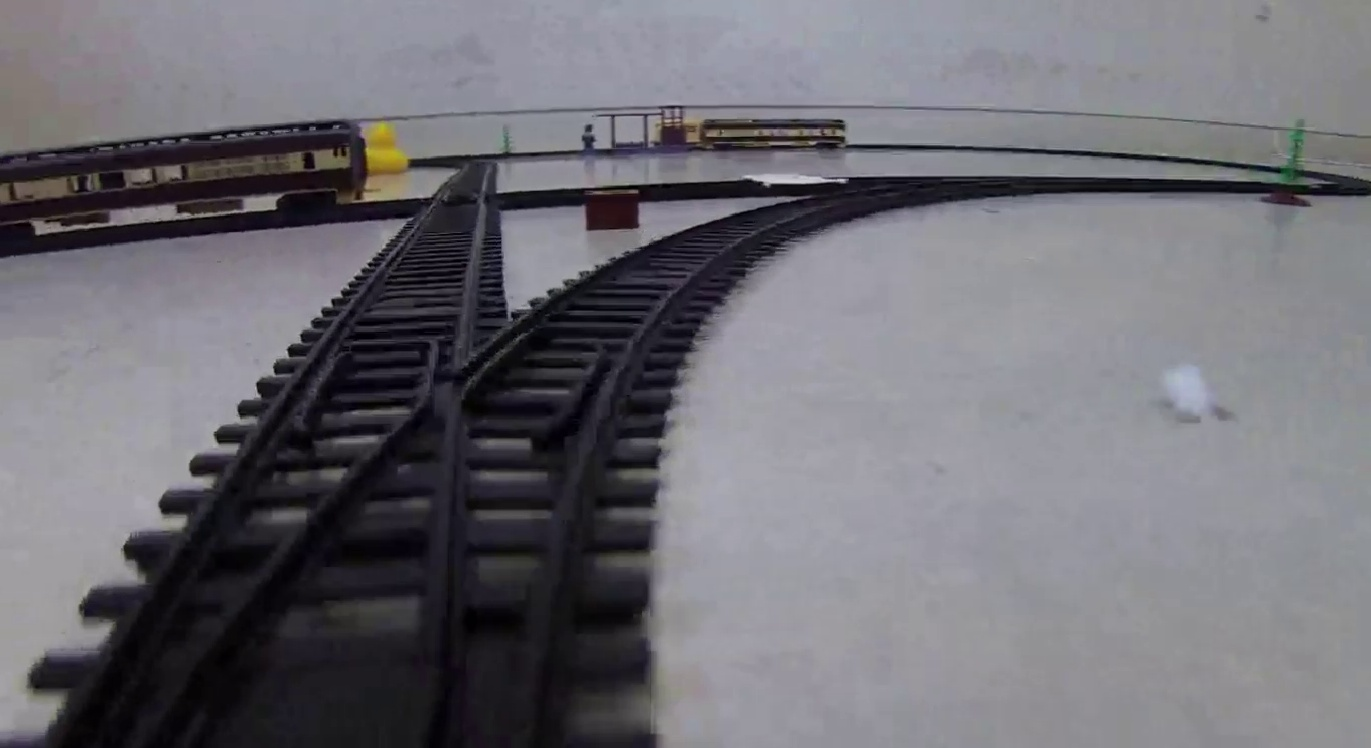box: (584, 190, 639, 228)
tree: (1264, 117, 1313, 205)
